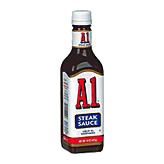grozi_112: (59, 11, 103, 153)
